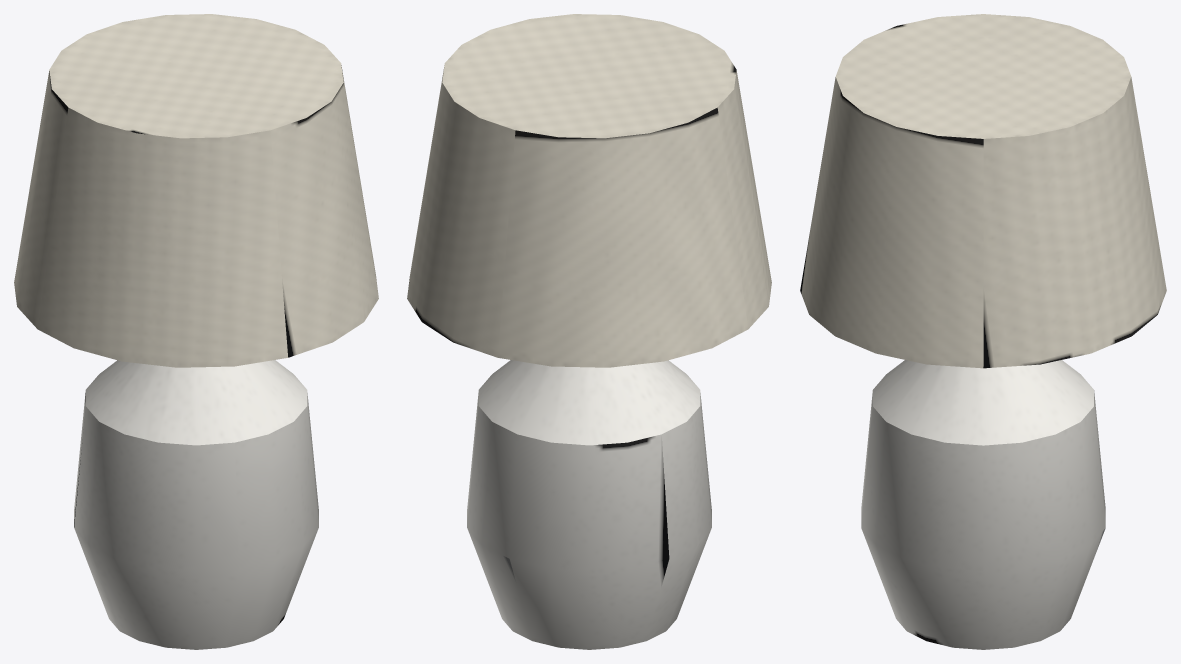
Rendered from H_TableLamp.fbx.
3 views of the same model, side by side, from view 1: azimuth 30°, elevation 25°; view 2: azimuth 150°, elevation 25°; view 3: azimuth 270°, elevation 25° (orthographic).
Parts seen in each view (by area): view 1: H_TableLamp__H_TableLamp_Shade, H_TableLamp__H_TableLamp; view 2: H_TableLamp__H_TableLamp_Shade, H_TableLamp__H_TableLamp; view 3: H_TableLamp__H_TableLamp_Shade, H_TableLamp__H_TableLamp.
Boxes of the visible parts, box(x1,y1,x2,y2) form: H_TableLamp__H_TableLamp_Shade: box(14, 14, 378, 367); H_TableLamp__H_TableLamp: box(74, 360, 318, 649); H_TableLamp__H_TableLamp_Shade: box(407, 14, 771, 367); H_TableLamp__H_TableLamp: box(467, 360, 711, 649); H_TableLamp__H_TableLamp_Shade: box(800, 14, 1166, 368); H_TableLamp__H_TableLamp: box(861, 360, 1105, 649).
Bounding box in the file's own units: 124 × 200 × 124.
Materials: 1 (1 with a texture image).
